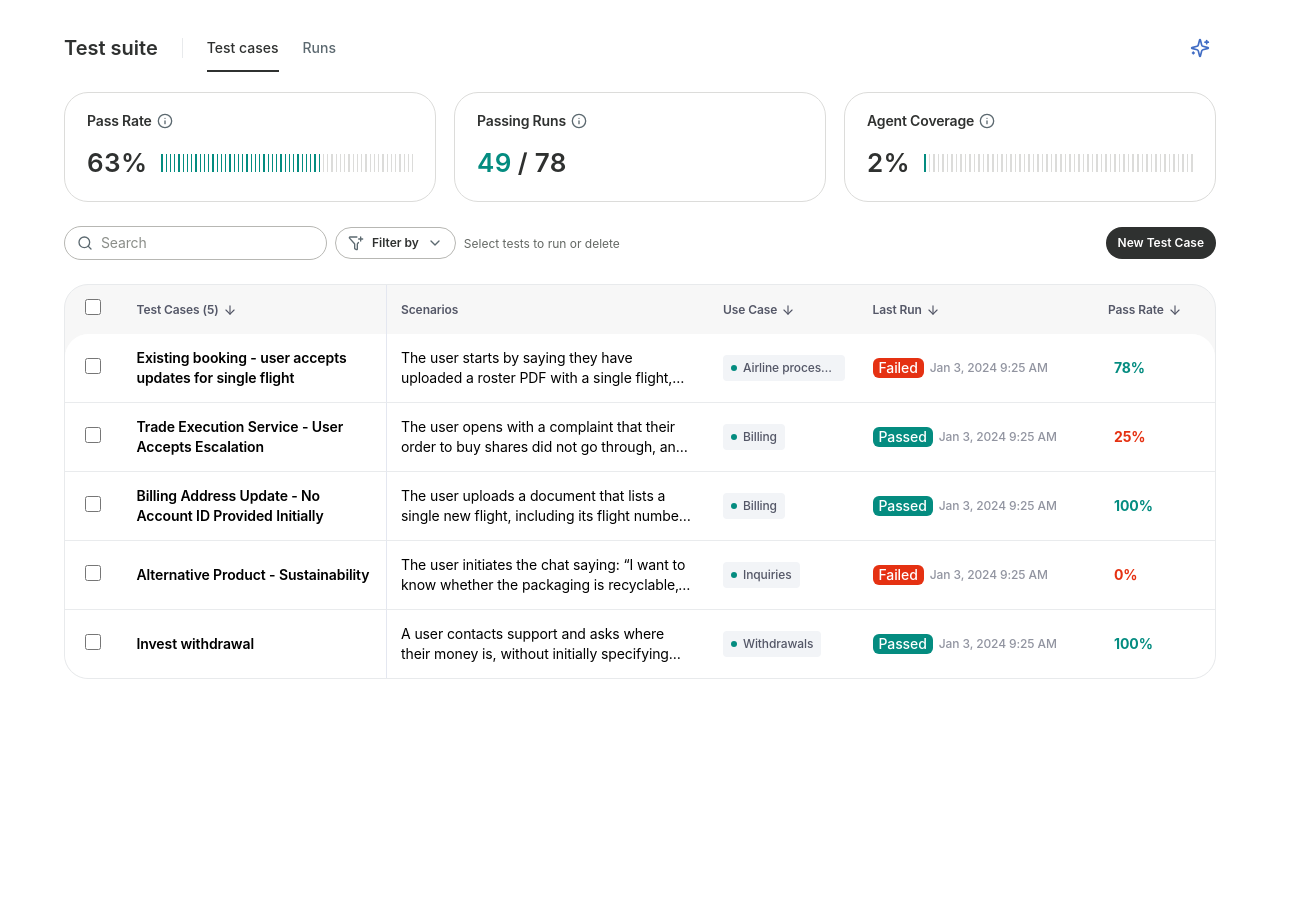
Test case: TestSuiteView › switches to the populated Runs tab
Click the tab "Runs" at (319, 54), box [302, 36, 336, 72]
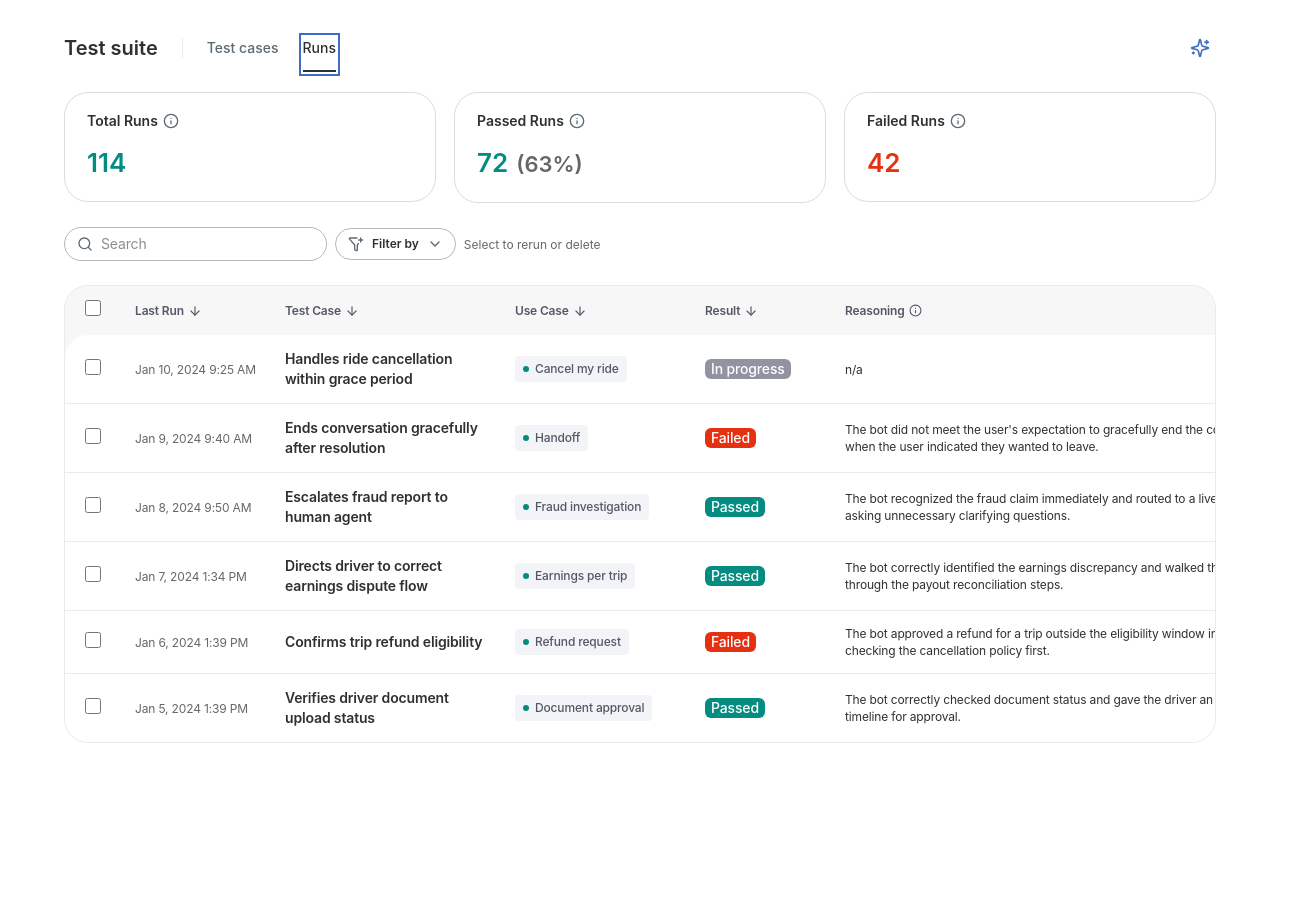
Result: the text "Total Runs" is shown at [87, 111, 158, 131]
Result: the text "114" is shown at [87, 147, 126, 179]
Result: the text "72" is shown at [477, 147, 508, 179]
